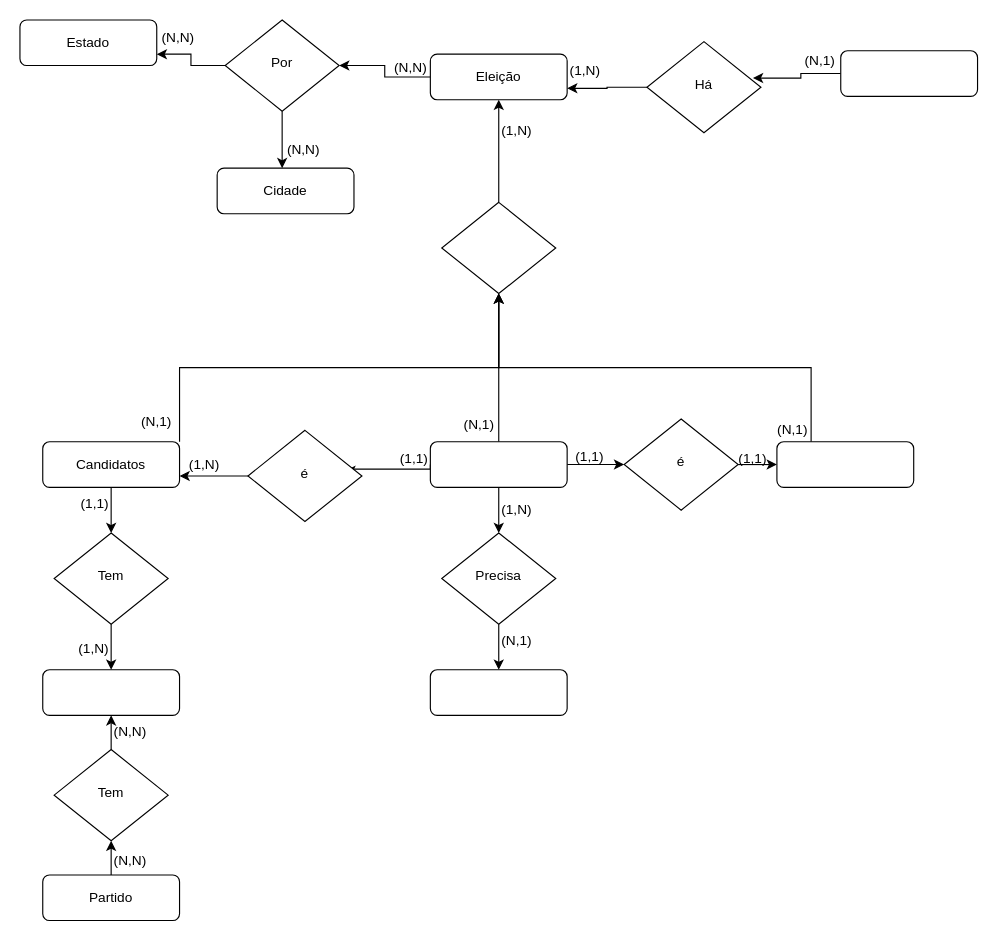
The diagram is 998 pixels wide and 941 high, and some of its shapes have lost their labels. The shapes that lost their labels are listed below. From the top down, each one's box as (x1, y1, x2, y2) in pixels, then its label:
(840, 50, 978, 96): Turno
(441, 201, 556, 294): Participa
(429, 441, 567, 487): Pessoa
(776, 441, 914, 487): Eleitor
(42, 669, 180, 715): Cargo
(429, 669, 567, 715): Votar
